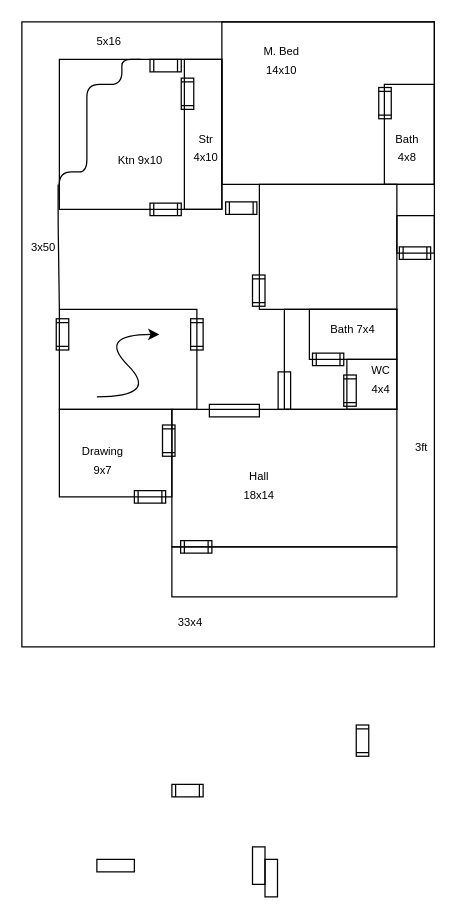
Image size: 456x919. Some labels were removed from this diagram. Here are the shapes that lost their labels. From the top down, the centre of each, then its label:
At pixel 327 246: "bed 10x10".
At pixel 127 358: "Stairs 10x7".
At pixel 284 571: "Porch 18x5".
